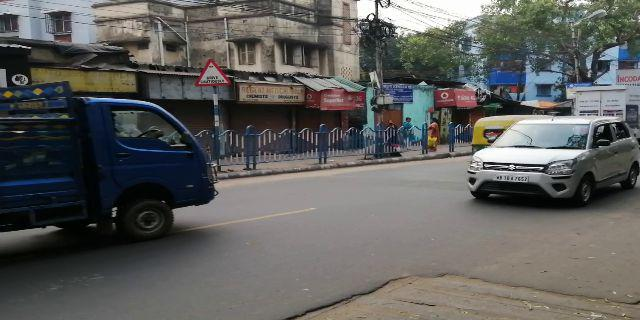Car: (472, 122, 636, 212)
Minitruck: (6, 89, 212, 237)
